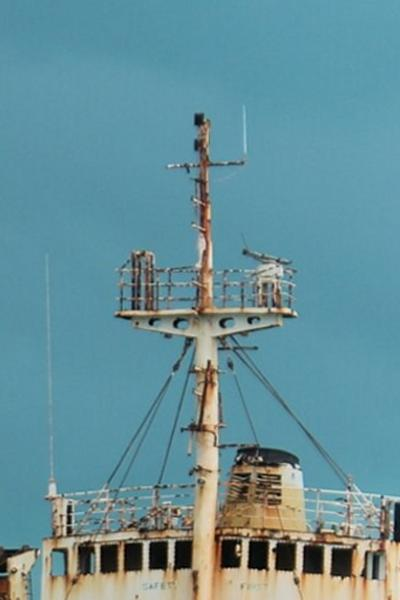rust: (45, 537, 400, 599), (188, 117, 223, 317), (191, 362, 225, 457)
